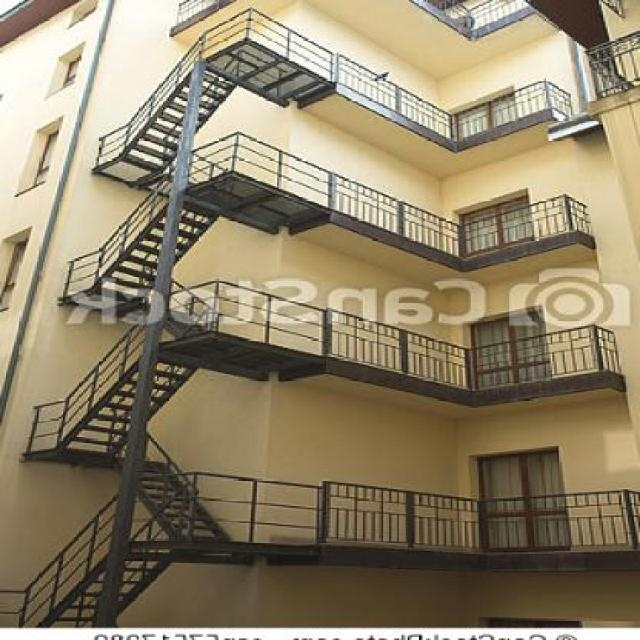stair: (28, 330, 242, 553), (26, 32, 308, 171), (28, 170, 272, 315)
